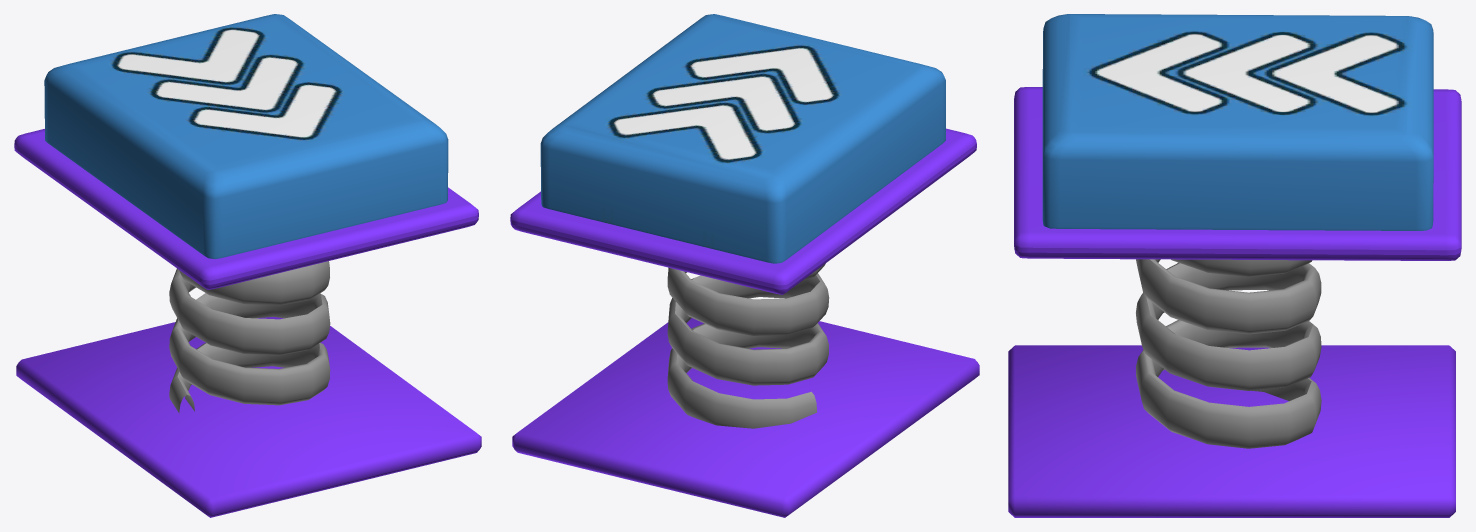
File: Jump Pad Blue (1).fbx
3 views of the same model, side by side, from view 1: azimuth 30°, elevation 25°; view 2: azimuth 150°, elevation 25°; view 3: azimuth 270°, elevation 25° (orthographic). The views are drawn at different scales.
Parts seen in each view (by area): view 1: jump_ramp, Jump Pad Blue (1); view 2: jump_ramp, Jump Pad Blue (1); view 3: jump_ramp, Jump Pad Blue (1).
Part boxes in pixels (box(x1,y1,x2,y2)): jump_ramp: box(14, 14, 478, 413); Jump Pad Blue (1): box(16, 317, 481, 517); jump_ramp: box(510, 14, 976, 428); Jump Pad Blue (1): box(512, 318, 979, 517); jump_ramp: box(1014, 14, 1461, 448); Jump Pad Blue (1): box(1008, 345, 1455, 517).
Size of the model in its own units: 3.3 by 3.68 by 4.08.
3 materials, 1 textured.
